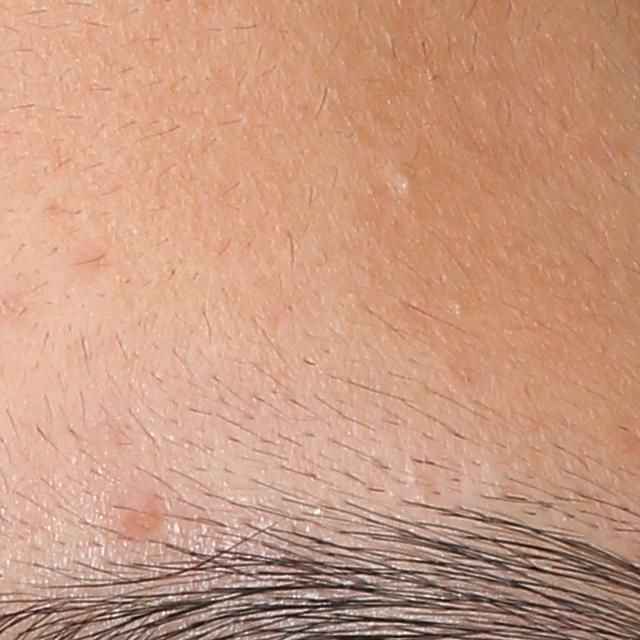comedo: (384, 169, 425, 199)
